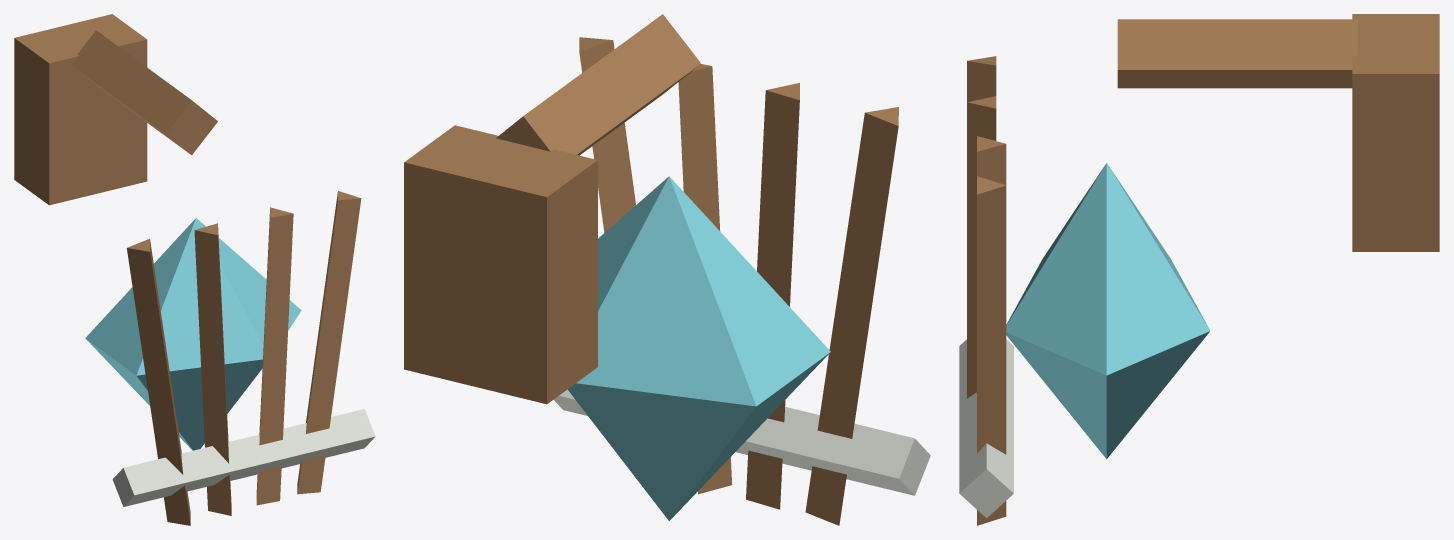
The model's file is Marsh_Fixture.fbx.
3 renders of one model, left to right at view 1: azimuth 30°, elevation 25°; view 2: azimuth 150°, elevation 25°; view 3: azimuth 270°, elevation 25°, orthographic. The views are drawn at different scales.
Visible parts, largest first — view 1: Marsh_Fixture; view 2: Marsh_Fixture; view 3: Marsh_Fixture.
Boxes of the visible parts, x1,y1,x2,y2 form: Marsh_Fixture: [14, 14, 375, 525]; Marsh_Fixture: [404, 14, 930, 525]; Marsh_Fixture: [959, 14, 1439, 525].
Bounding box in the file's own units: 32 × 46.73 × 44.
